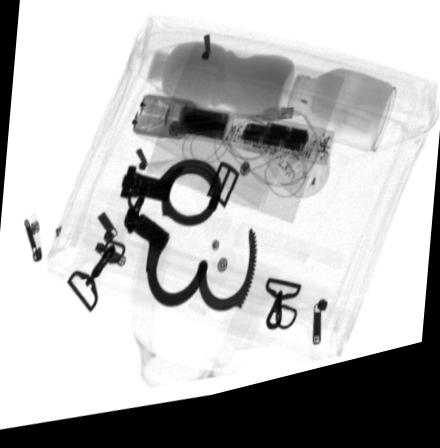Baton: (129, 99, 334, 183)
HandCuffs: (117, 165, 257, 325)
